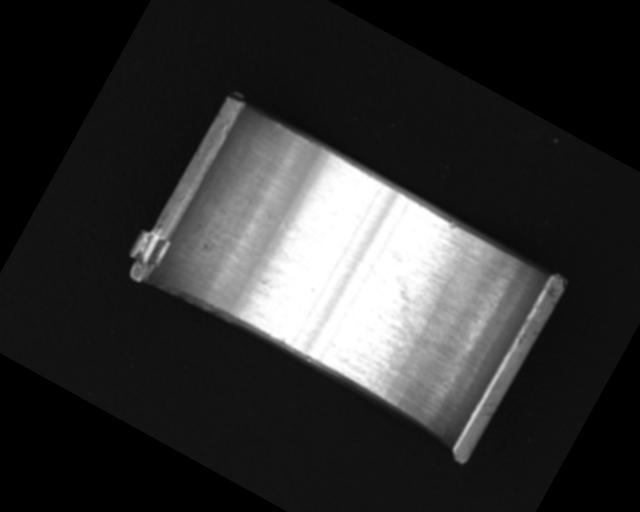bruise: (445, 219, 460, 233)
